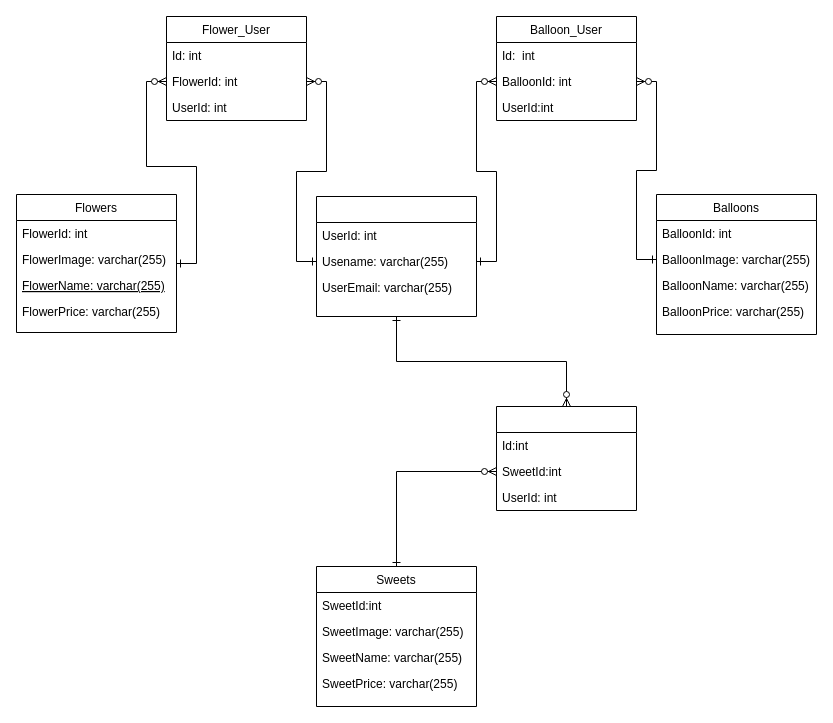
The diagram is 833 pixels wide and 723 high, and some of its shapes have lost their labels. The shapes that lost their labels are listed below. From the top down, each one's box as (x1, y1, x2, y2) in pixels, then its label:
(316, 196, 476, 316): Users
(496, 406, 636, 510): Sweet_User
